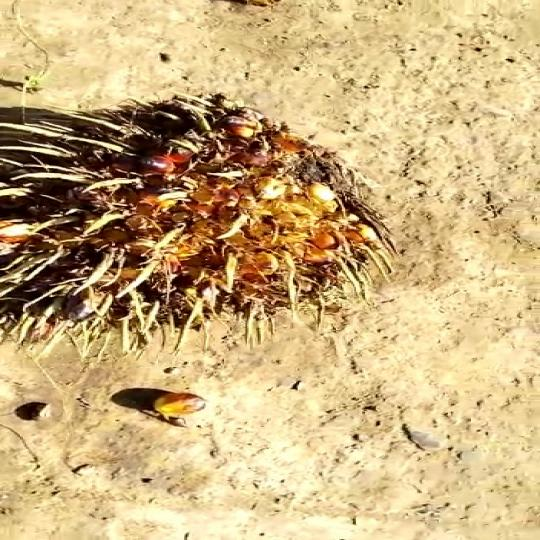terlalu masak: (0, 80, 390, 392)
